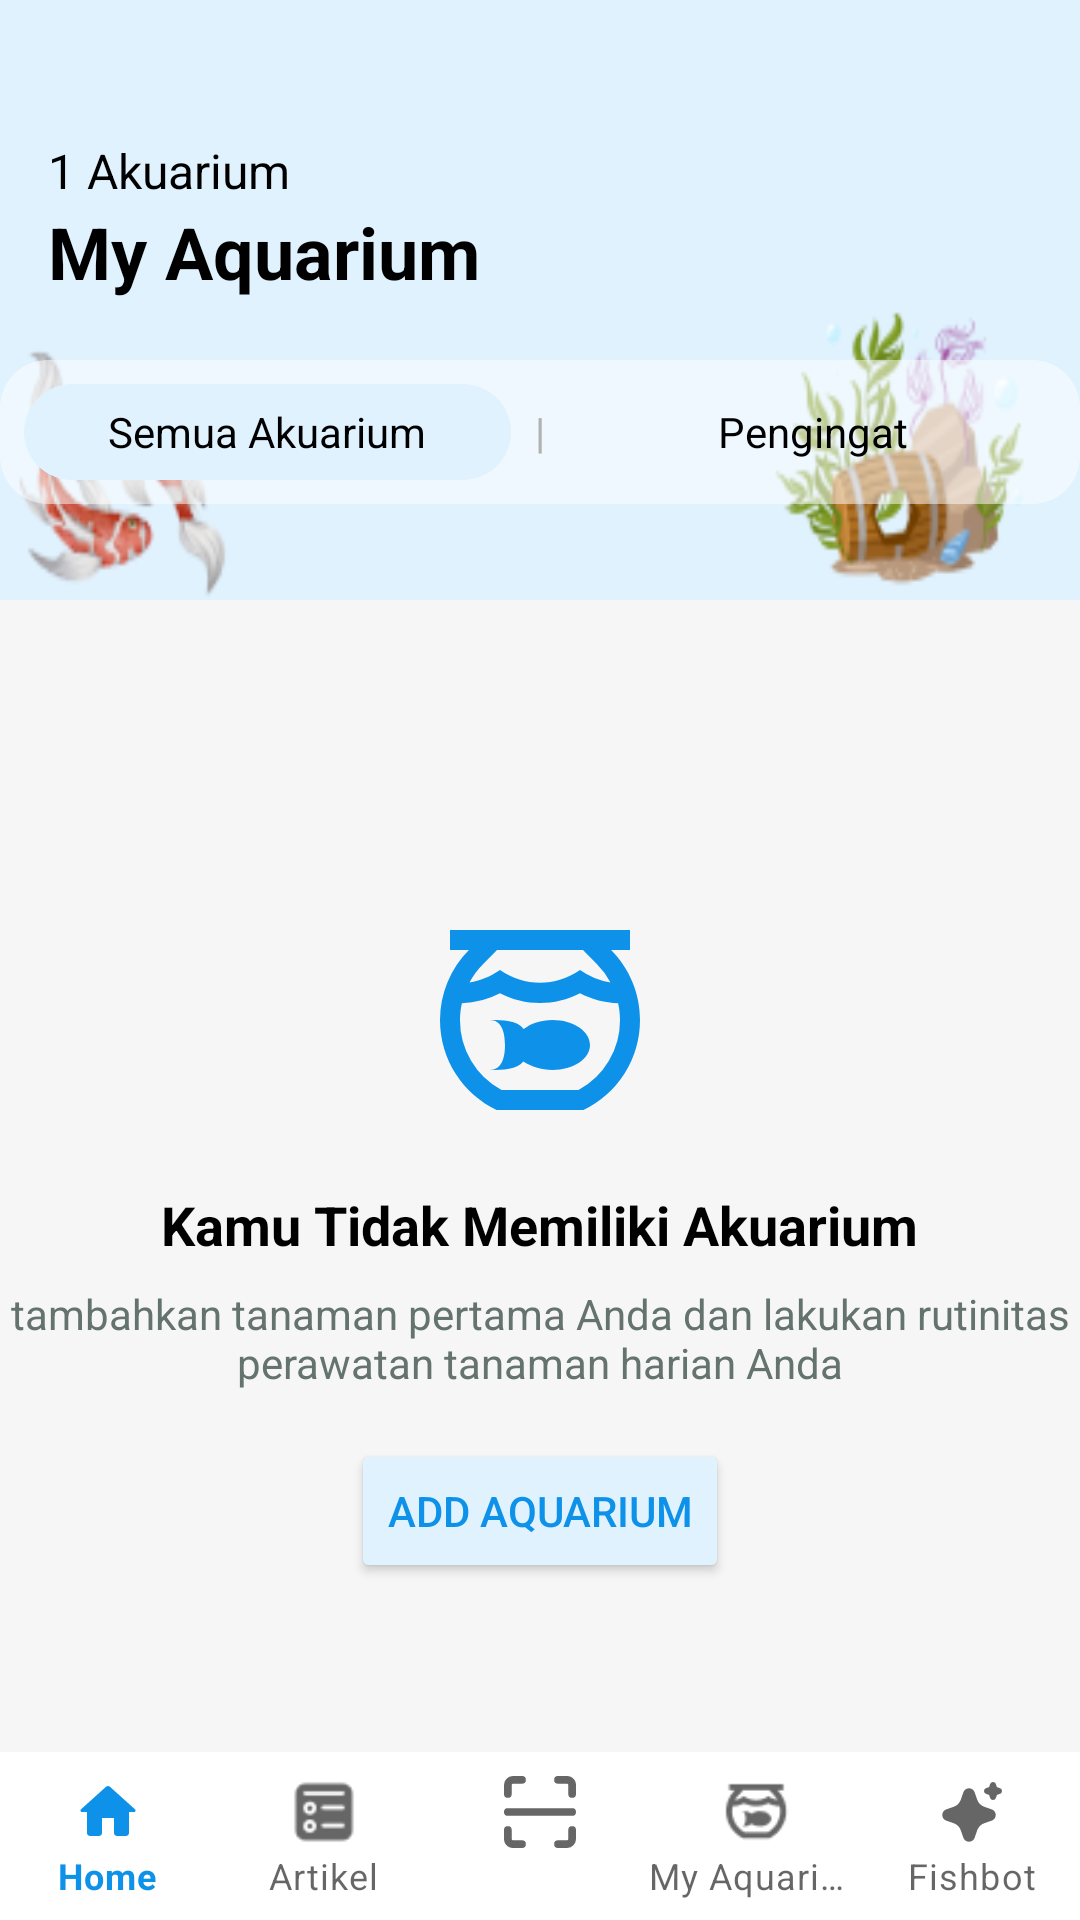

Icons on this 1080w x 1920h Android screen, each with the point to tap as (x=x, y=y):
Empty Aquarium Icon: (x=540, y=1020)
